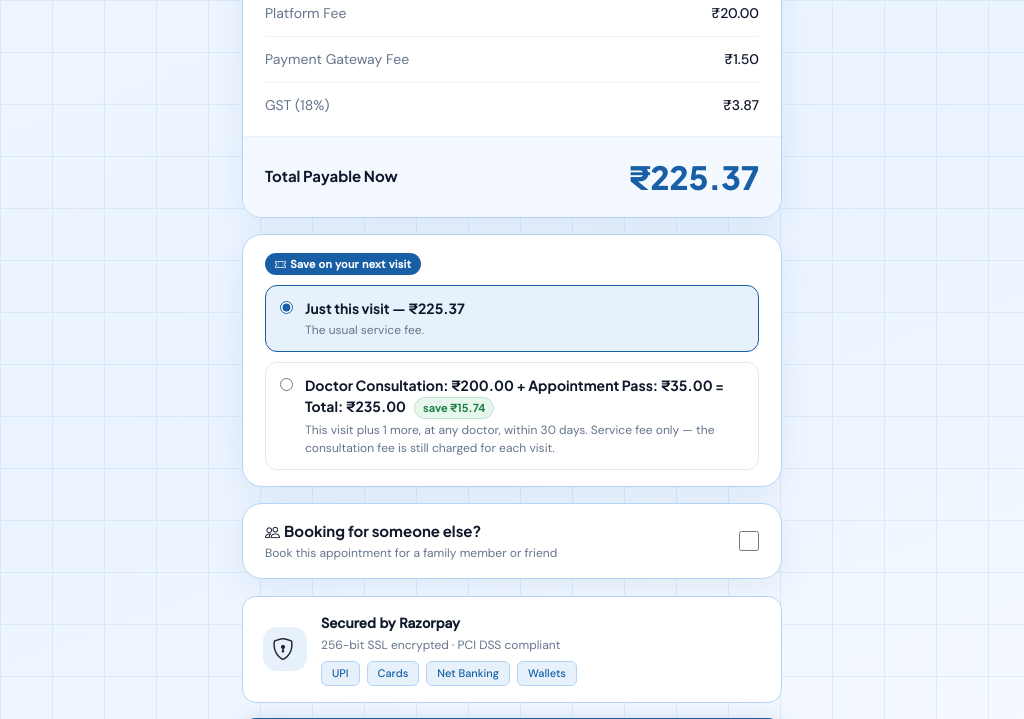
a doctor who collects the full fee online is offered the pass too, priced fee + 35
(page scrolled)
Check: the text "Appointment Pass" is shown, box [514,376,670,394]
Click the 2nd radio button: {"x": 286, "y": 384} [280,378,293,391]
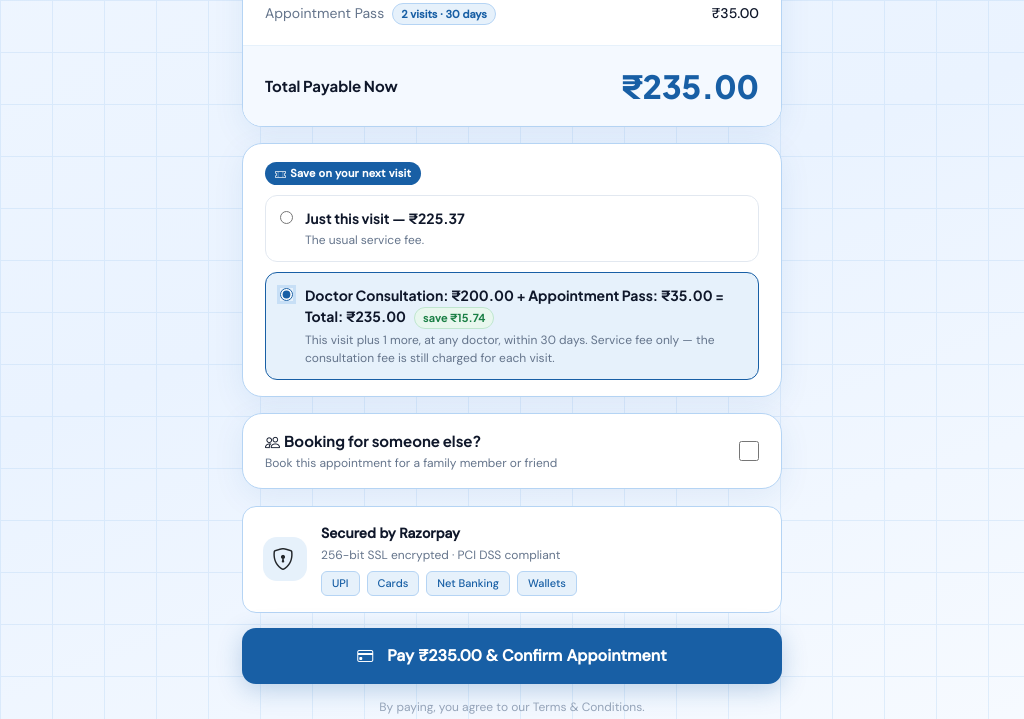
Check: the text "Doctor Consultation: ₹200.00 + Appointment Pass: ₹35.00 = Total: ₹235.00" is shown, box [305,285,744,329]
Check: the button "Pay ₹235.00 & Confirm Appointment" is shown, box [242,628,782,684]
